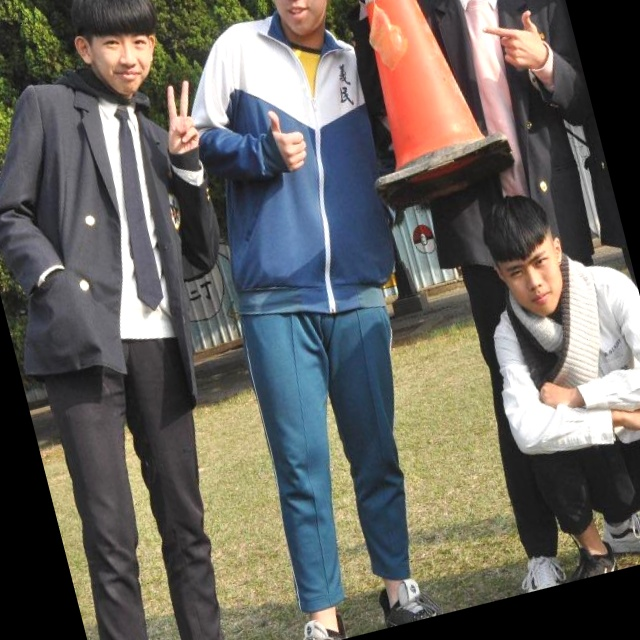Sin_Casco_Mascarrilla: (60, 0, 176, 108), (253, 0, 351, 44)
